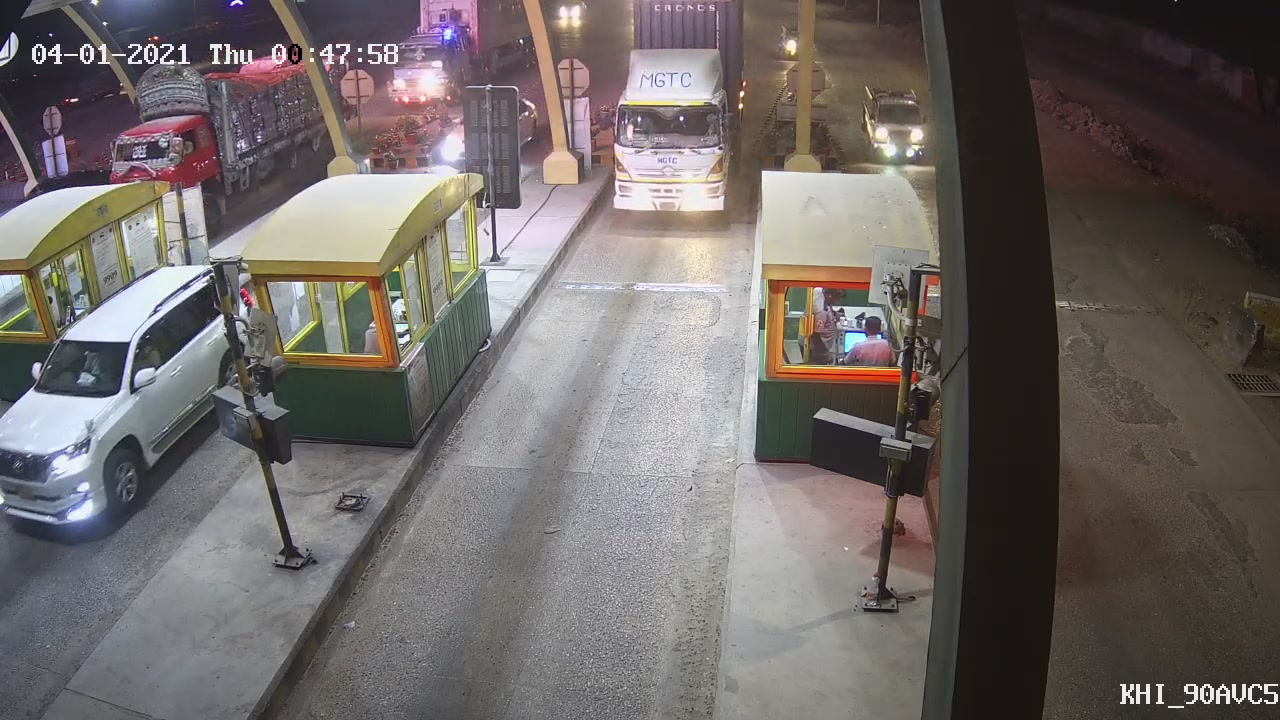F5: (617, 2, 748, 214)
